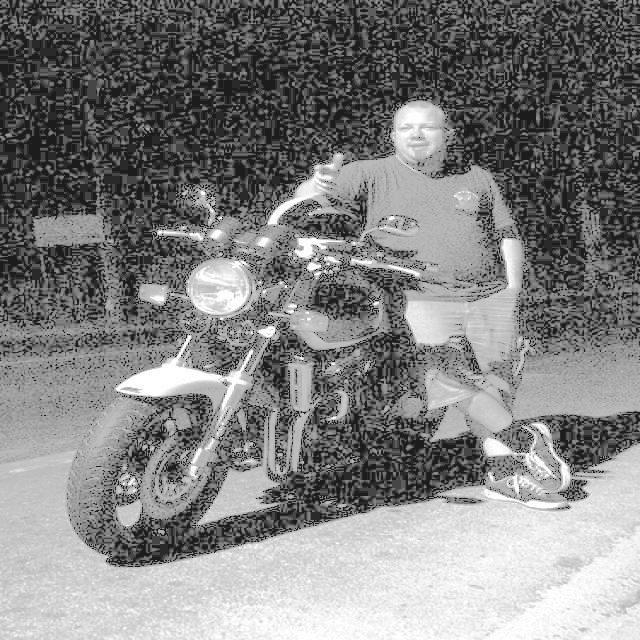Motorcycle: (58, 174, 640, 562)
